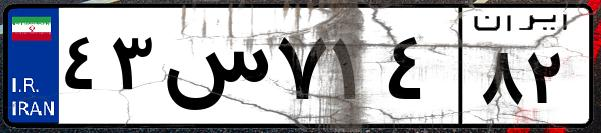1: (330, 28, 385, 110)
2: (525, 38, 570, 115)
3: (110, 28, 158, 98)
4: (385, 28, 445, 110), (57, 26, 110, 100)
7: (270, 28, 330, 110)
8: (475, 38, 525, 113)
س: (158, 20, 270, 120)
